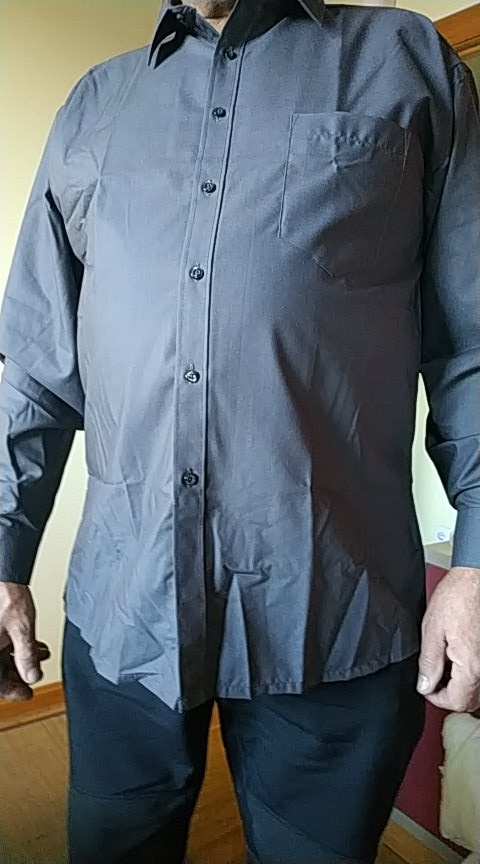shirts: (26, 20, 480, 711)
